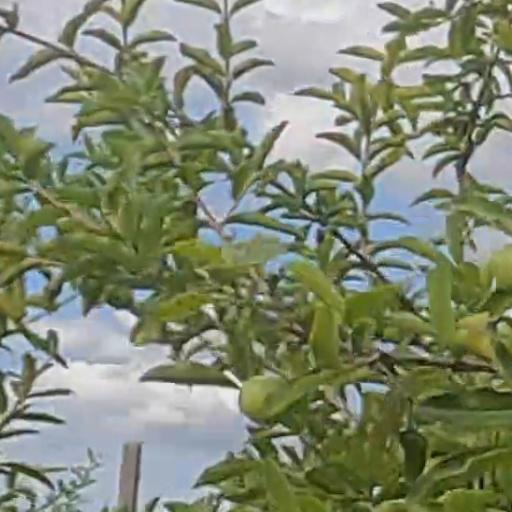acerola_verde: (241, 377, 282, 414)
